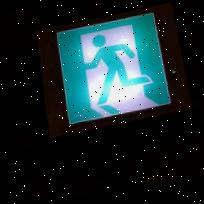emergency_exit: (35, 3, 190, 139), (53, 10, 174, 127)
